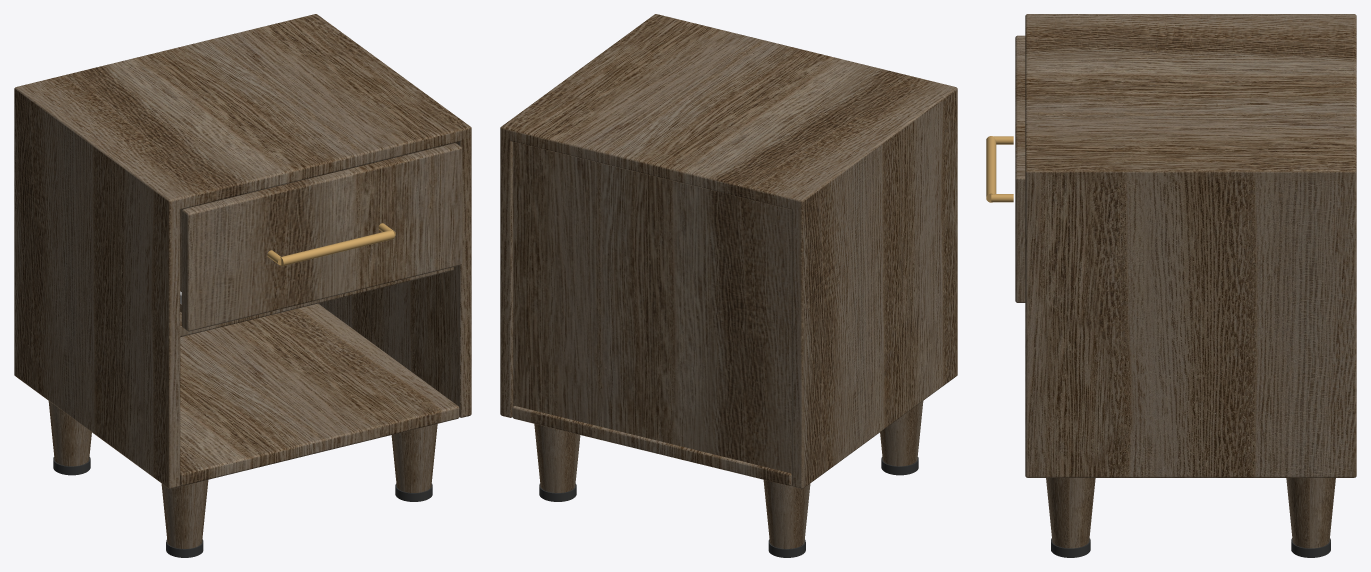
The model's file is detail-bedside.glb.
3 renders of one model, left to right at view 1: azimuth 30°, elevation 25°; view 2: azimuth 150°, elevation 25°; view 3: azimuth 270°, elevation 25°, orthographic. The views are drawn at different scales.
Parts seen in each view (by area): view 1: 顶板, 左侧板, 抽屉独立面板, 底板, 右侧板, 收分柜脚, 收分柜脚.002, 收分柜脚.001, 可调层板, 圆角金属拉手; view 2: 嵌入式背板, 顶板, 左侧板, 右侧板, 底板, 收分柜脚.001, 收分柜脚.003, 收分柜脚; view 3: 右侧板, 顶板, 收分柜脚.003, 收分柜脚.002, 抽屉独立面板, 圆角金属拉手.
Boxes of the visible parts, x1,y1,x2,y2 form: 顶板: (14, 14, 471, 209); 左侧板: (14, 88, 180, 488); 抽屉独立面板: (181, 143, 462, 331); 底板: (180, 303, 459, 485); 右侧板: (318, 128, 471, 417); 收分柜脚: (161, 480, 208, 548); 收分柜脚.002: (391, 424, 437, 492); 收分柜脚.001: (48, 401, 91, 466); 可调层板: (180, 267, 453, 336); 圆角金属拉手: (280, 230, 394, 266); 嵌入式背板: (513, 142, 791, 473); 顶板: (500, 14, 957, 210); 左侧板: (791, 88, 957, 488); 右侧板: (500, 128, 513, 417); 底板: (512, 406, 791, 485); 收分柜脚.001: (763, 480, 810, 548); 收分柜脚.003: (534, 424, 580, 492); 收分柜脚: (880, 401, 923, 466); 右侧板: (1025, 170, 1356, 477); 顶板: (1025, 14, 1356, 181); 收分柜脚.003: (1286, 478, 1335, 548); 收分柜脚.002: (1046, 478, 1095, 548); 抽屉独立面板: (1015, 35, 1025, 302); 圆角金属拉手: (986, 136, 996, 202).
Bounding box in the file's own units: 0.45 × 0.53 × 0.447.
Materials: 4 (1 with a texture image).
